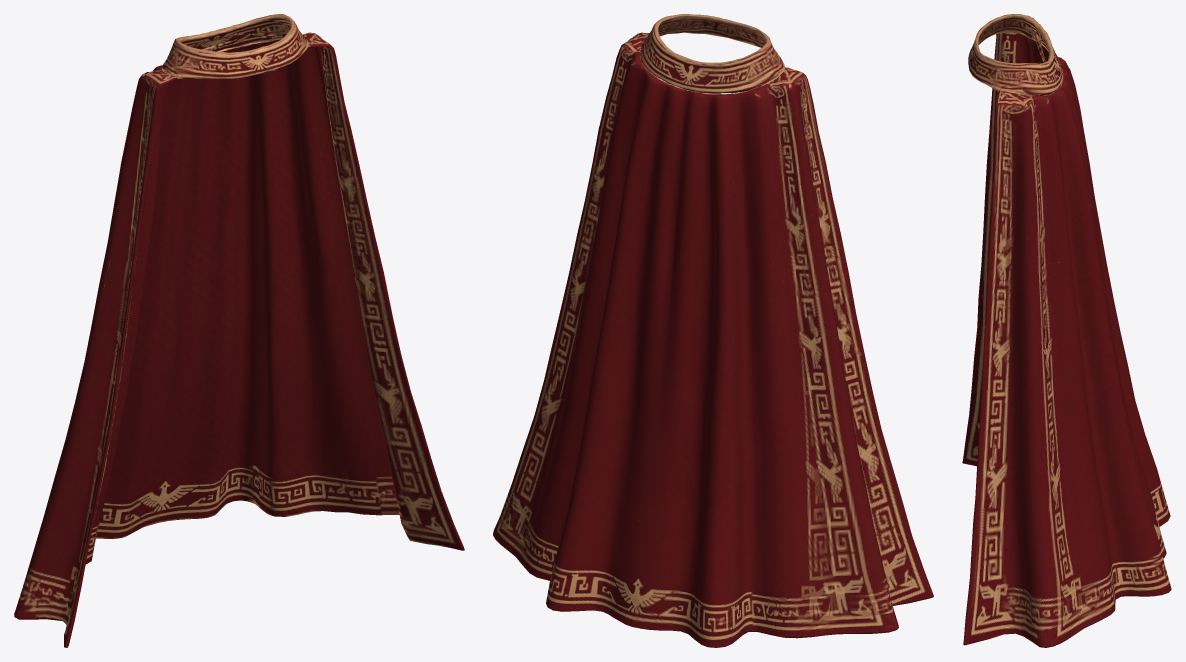
Rendered from hung_vuong_cape_mesh.fbx.
3 renders of one model, left to right at view 1: azimuth 30°, elevation 25°; view 2: azimuth 150°, elevation 25°; view 3: azimuth 270°, elevation 25°, orthographic. The views are drawn at different scales.
Visible parts, largest first — view 1: Mesh_0; view 2: Mesh_0; view 3: Mesh_0.
Part boxes in pixels (x1,y1,x2,y2): Mesh_0: [14, 14, 464, 647]; Mesh_0: [493, 14, 933, 647]; Mesh_0: [962, 14, 1171, 647].
Bounding box in the file's own units: 78.75 × 100 × 36.92.
Materials: 1 (1 with a texture image).
